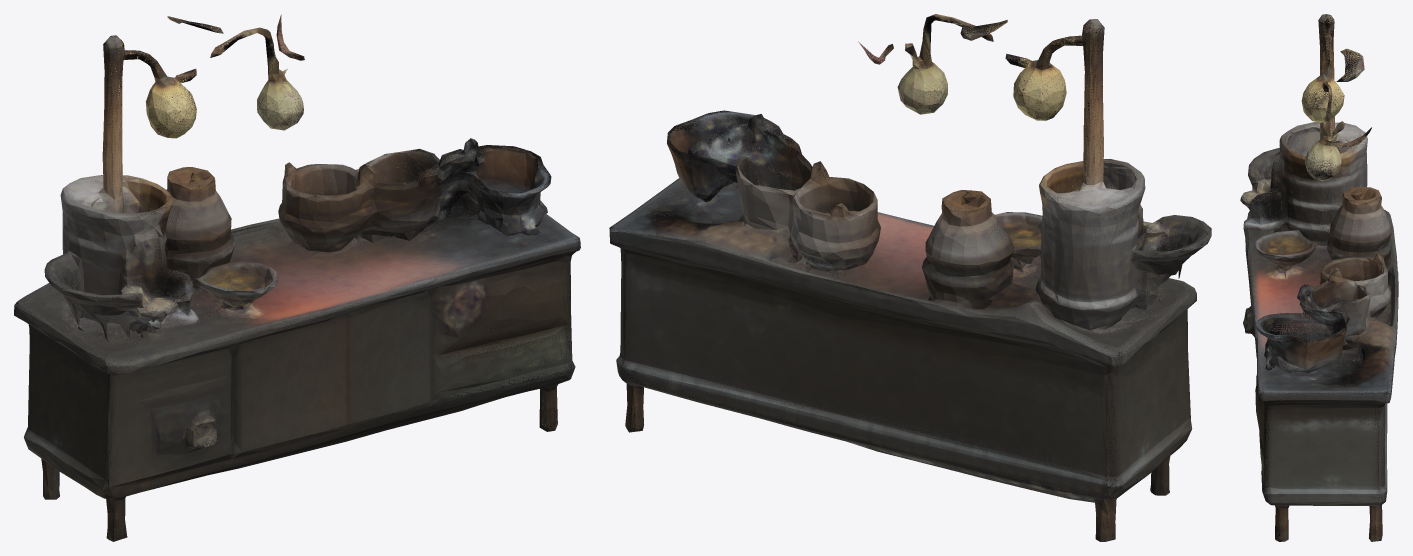
The picture shows the model from 3 angles, left to right: view 1: azimuth 30°, elevation 25°; view 2: azimuth 150°, elevation 25°; view 3: azimuth 270°, elevation 25°; orthographic projection. The views are drawn at different scales.
Parts seen in each view (by area): view 1: world; view 2: world; view 3: world.
Boxes of the visible parts, box(x1,y1,x2,y2) form: world: box(14, 14, 580, 541); world: box(609, 14, 1211, 541); world: box(1240, 14, 1398, 541).
Bounding box in the file's own units: 58.08 × 51.3 × 19.88.
1 material, 1 textured.
